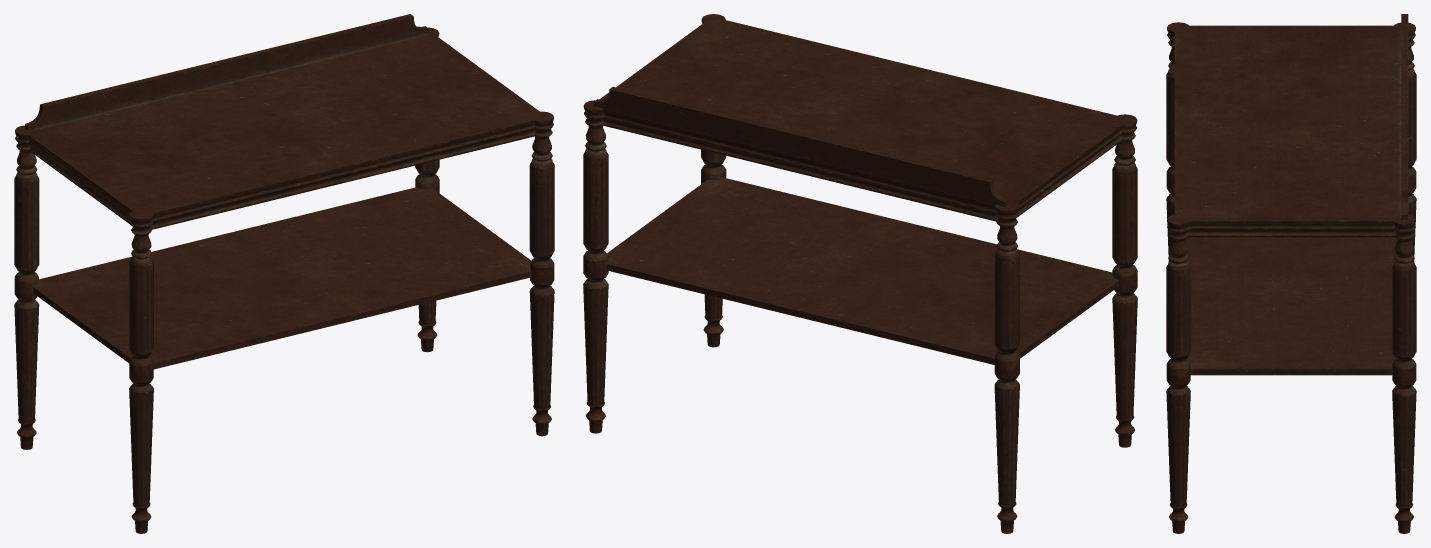
Rendered from table_model.glb.
The picture shows the model from 3 angles, left to right: view 1: azimuth 30°, elevation 25°; view 2: azimuth 150°, elevation 25°; view 3: azimuth 270°, elevation 25°; orthographic projection. The views are drawn at different scales.
Visible parts, largest first — view 1: OPM0032; view 2: OPM0032; view 3: OPM0032.
Part boxes in pixels (left/top/right/bottom): OPM0032: left=14, top=14, right=554, bottom=533; OPM0032: left=583, top=14, right=1137, bottom=533; OPM0032: left=1166, top=14, right=1416, bottom=533.
Size of the model in its own units: 1.06 by 0.8127 by 0.5542.
1 material, 1 textured.
